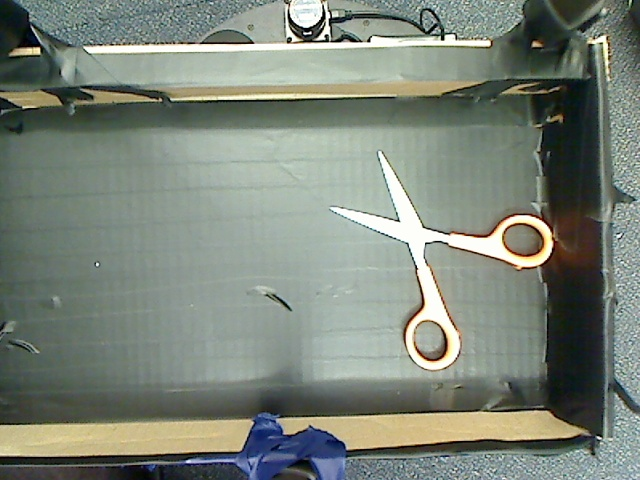scissors: (322, 144, 557, 376)
